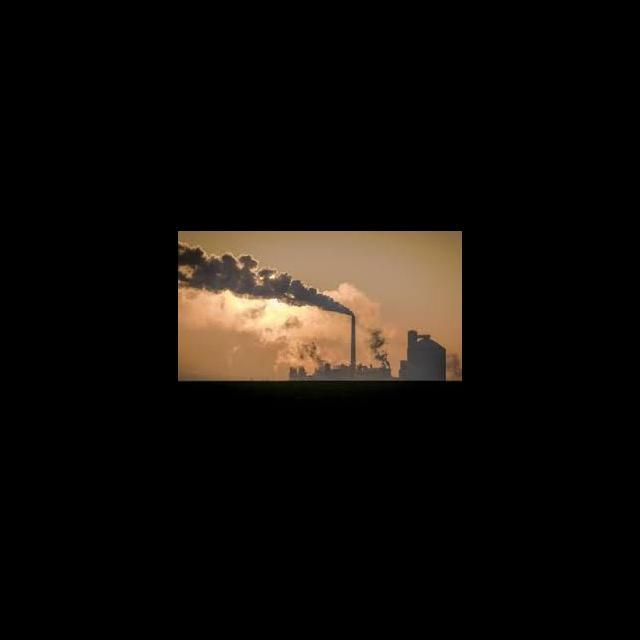Smoke: (179, 243, 350, 316)
